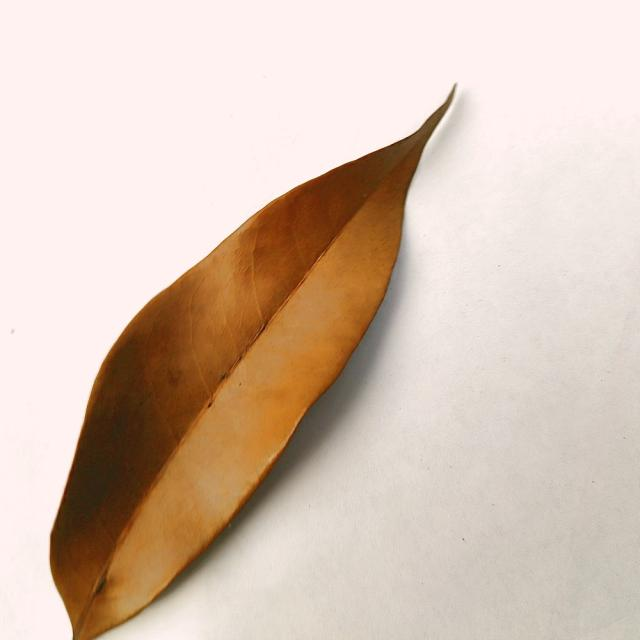Dry_Leaf-Lychee: (49, 86, 460, 639)
